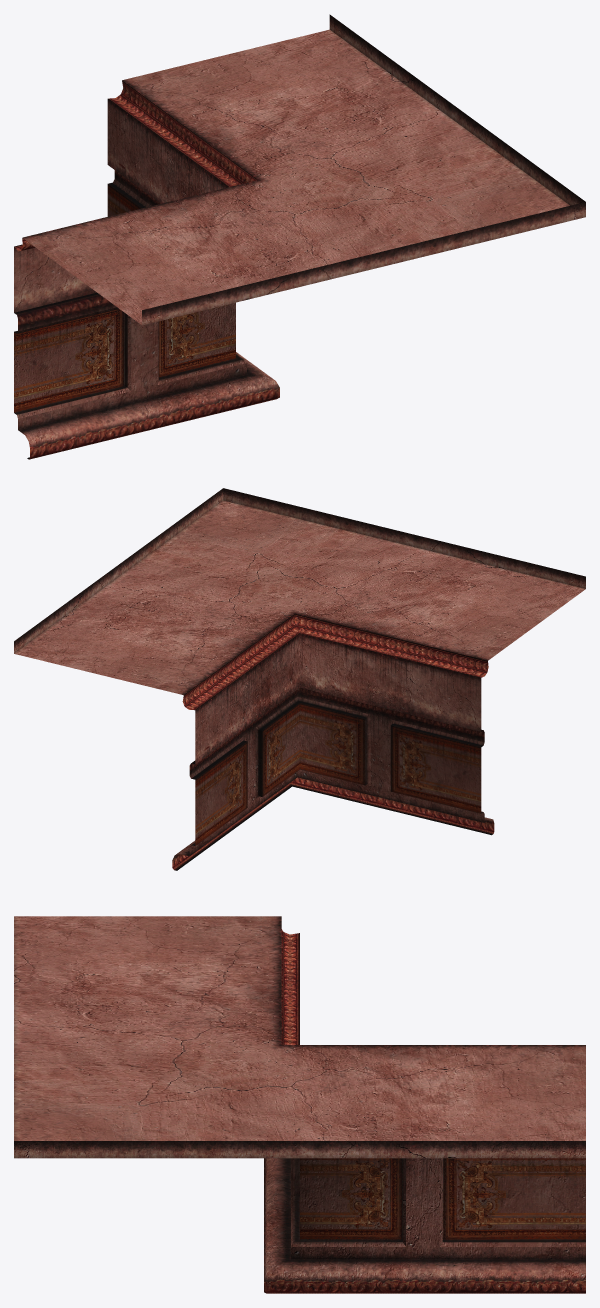
File: corner_convex02_short.dae
3 renders of one model, top to bottom at view 1: azimuth 30°, elevation 25°; view 2: azimuth 150°, elevation 25°; view 3: azimuth 270°, elevation 25°, orthographic. The views are drawn at different scales.
Visible parts, largest first — view 1: corner_convex_short; view 2: corner_convex_short; view 3: corner_convex_short.
Boxes of the visible parts, left/top/right/bottom form: corner_convex_short: left=14, top=14, right=585, bottom=459; corner_convex_short: left=14, top=488, right=585, bottom=870; corner_convex_short: left=14, top=916, right=585, bottom=1293.
Bounding box in the file's own units: 4 × 2 × 4.
1 material, 1 textured.
